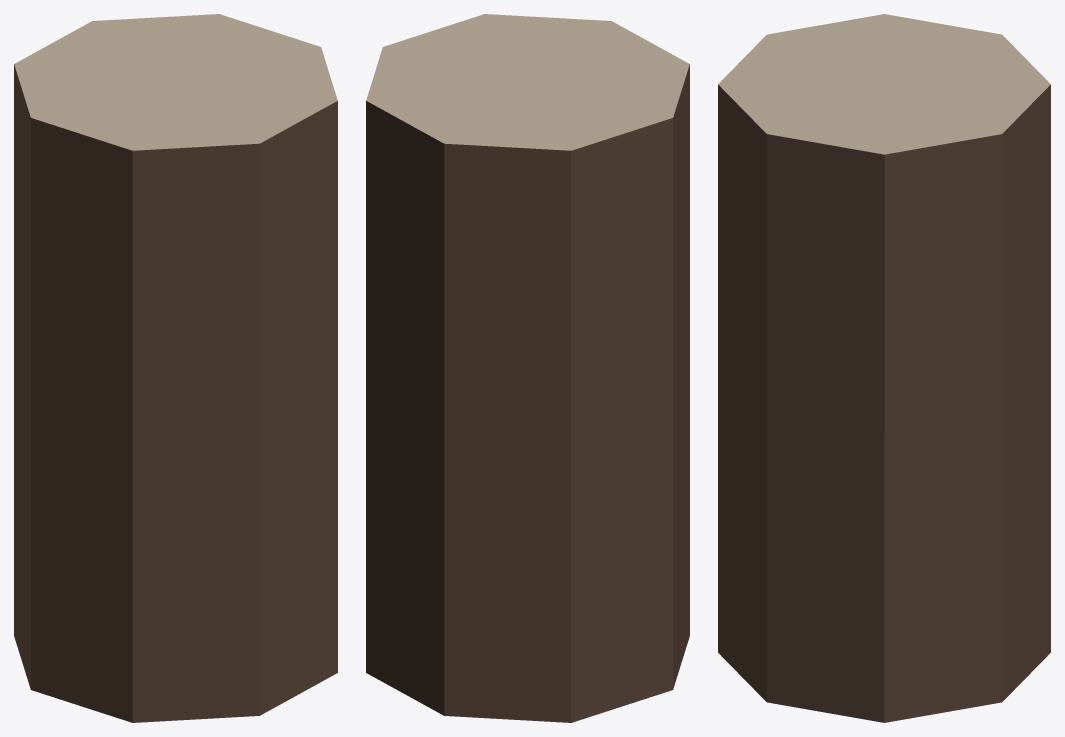
Rendered from Structure_0.fbx.
3 views of the same model, side by side, from view 1: azimuth 30°, elevation 25°; view 2: azimuth 150°, elevation 25°; view 3: azimuth 270°, elevation 25° (orthographic).
Visible parts, largest first — view 1: Model_0; view 2: Model_0; view 3: Model_0.
Part boxes in pixels (left/top/right/bottom): Model_0: left=14, top=14, right=337, bottom=722; Model_0: left=366, top=14, right=689, bottom=722; Model_0: left=718, top=14, right=1050, bottom=722.
Size of the model in its own units: 0.9899 by 1.86 by 0.9899.
